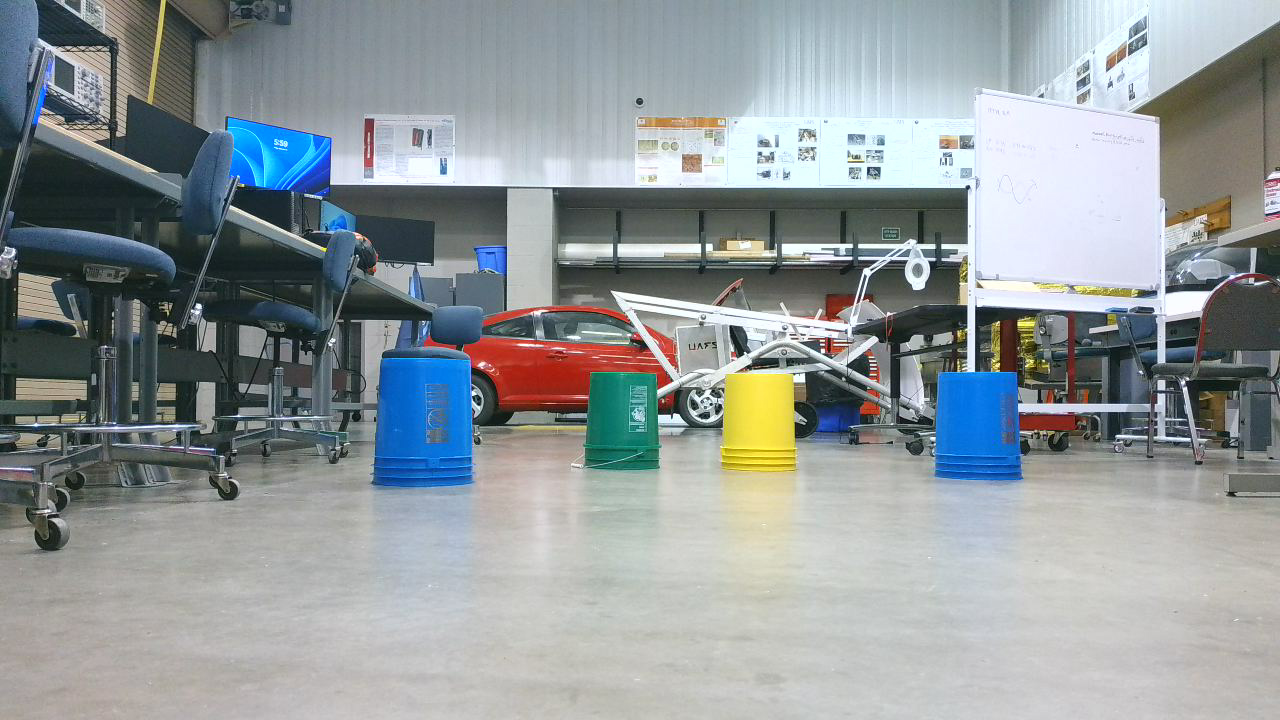blue_bucket: (369, 357, 485, 497), (933, 370, 1037, 488)
green_bucket_barrier: (584, 374, 679, 481)
yellow_bucket: (721, 374, 811, 480)
